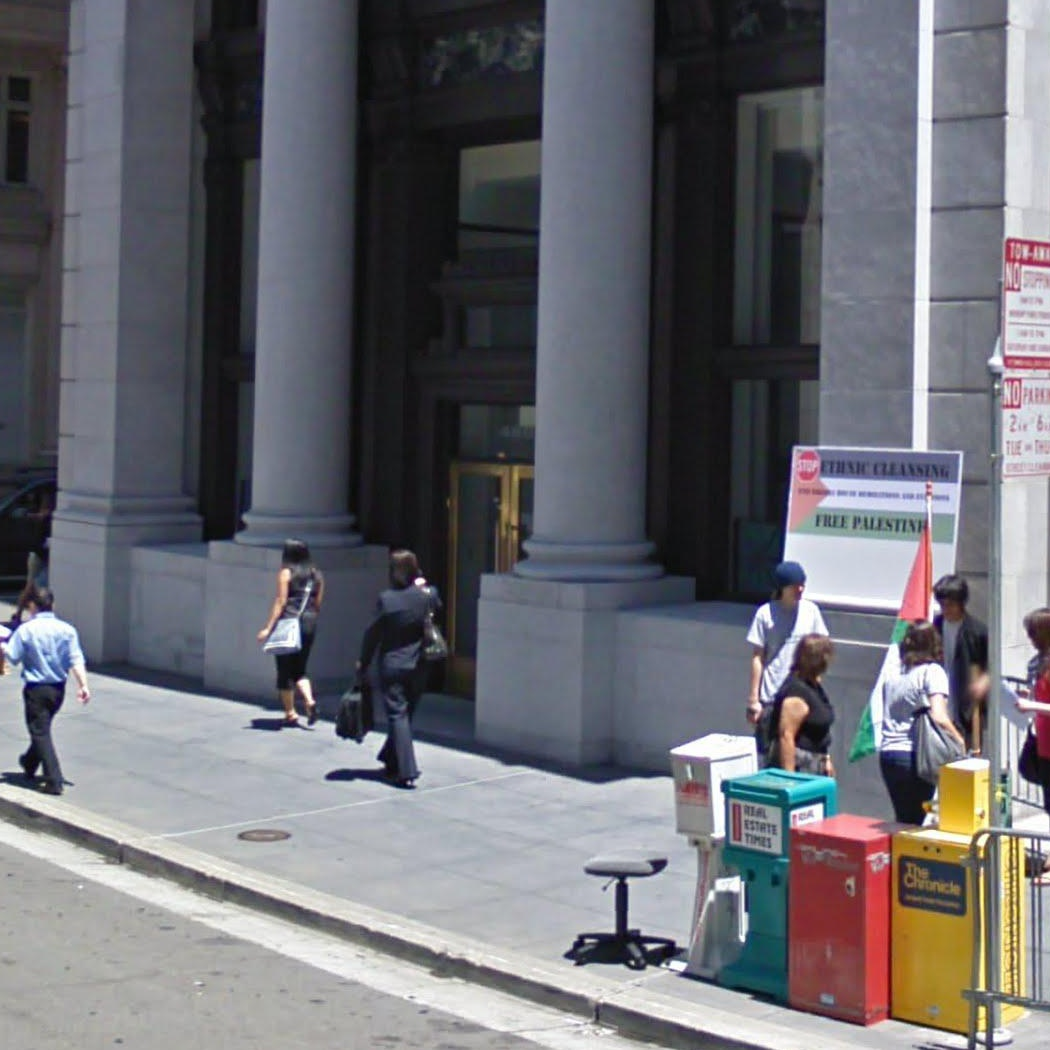No Parking: (998, 375, 1050, 477)
